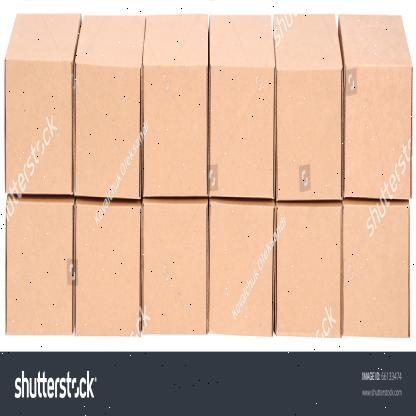box: (5, 59, 73, 197), (75, 60, 141, 201), (344, 64, 411, 200), (74, 198, 140, 336), (6, 197, 72, 334), (343, 204, 410, 337), (276, 66, 342, 200), (209, 64, 274, 198), (209, 200, 273, 336), (142, 202, 208, 333), (276, 205, 340, 338), (143, 66, 208, 196)
